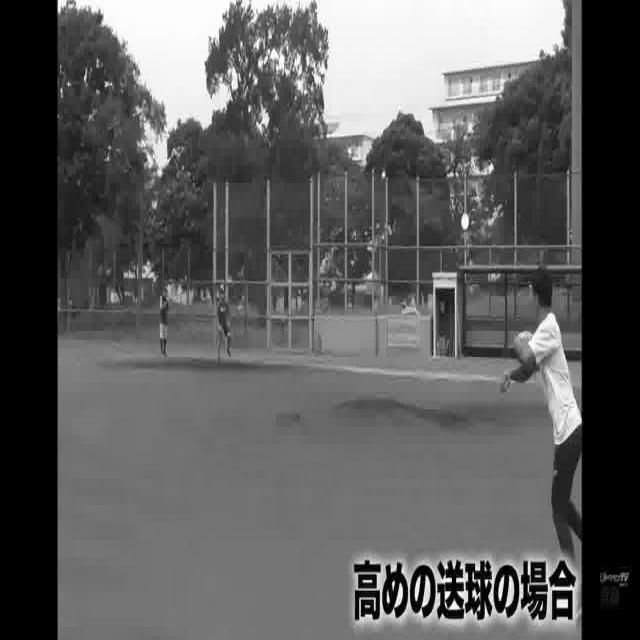baseball: (382, 171, 385, 181)
baseball_glove: (514, 328, 538, 352)
